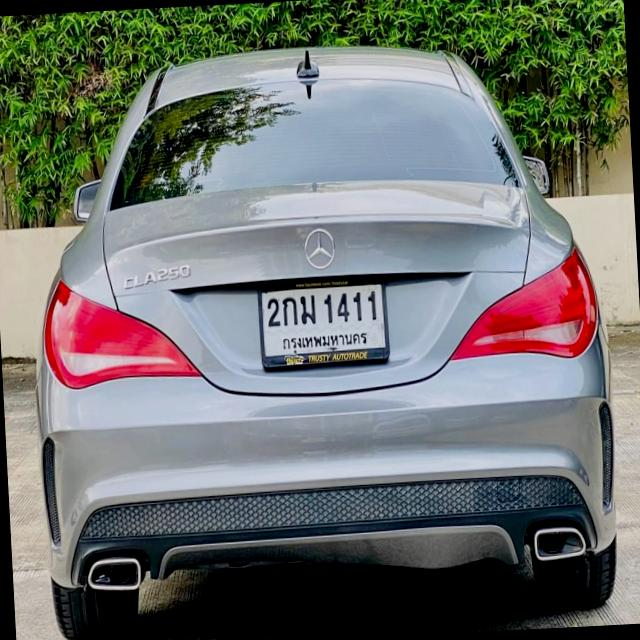license_plate: (252, 271, 393, 373)
